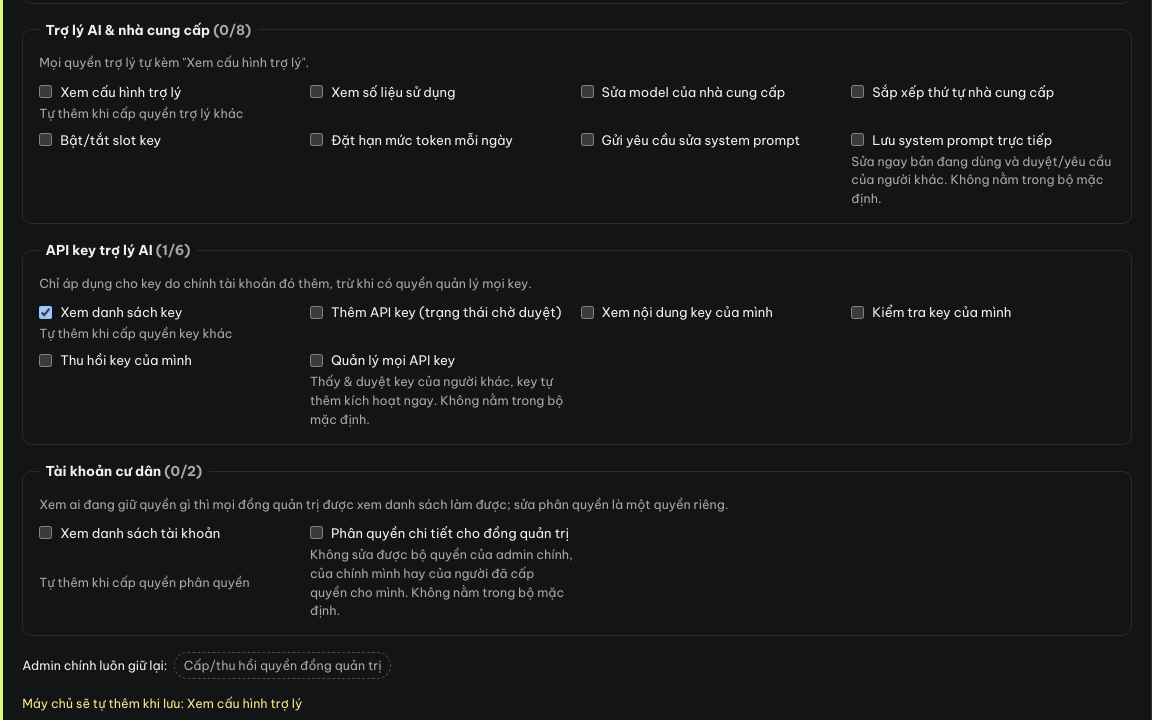
it: AdminPermissionEditorComponent › shows supervisor implications when the all-keys right is picked
(page scrolled)
Click the checkbox labelled "Quản lý mọi API key".
click(316, 360)  # box top-left (310, 354), bottom-right (323, 367)
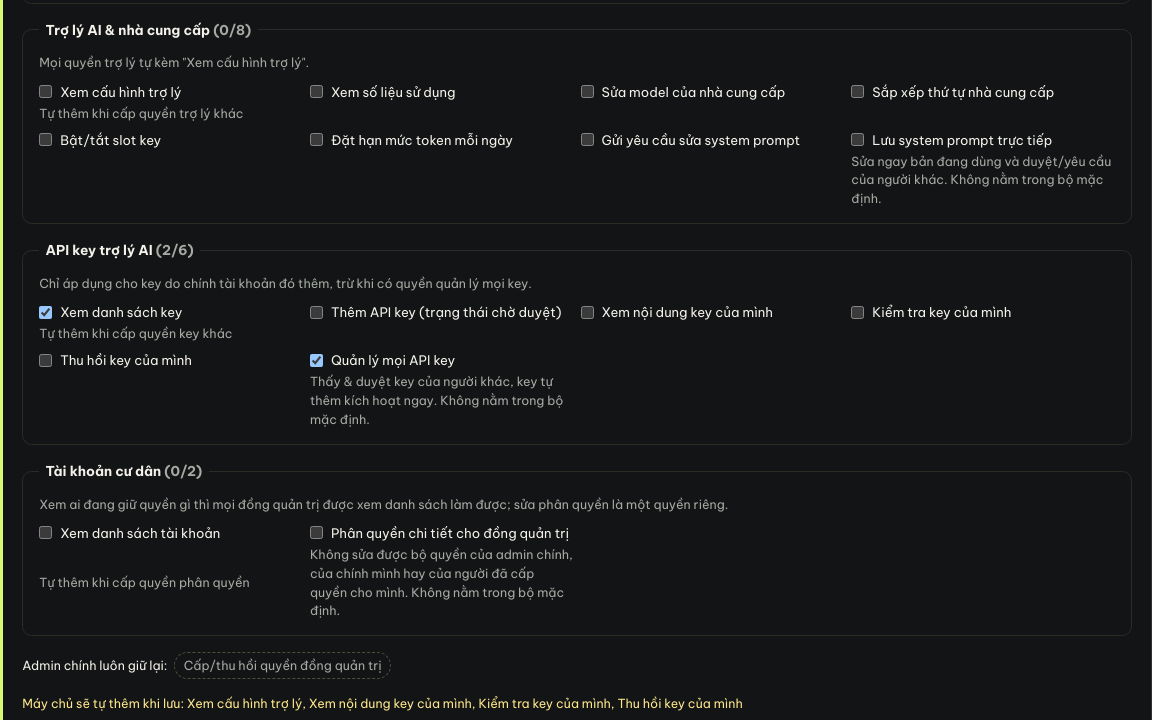
expect the message with class "implied" shows "Xem nội dung key của mình": met, box top-left (22, 696), bottom-right (743, 712)
expect the message with class "implied" shows "Kiểm tra key của mình": met, box top-left (22, 696), bottom-right (743, 712)
expect the message with class "implied" shows "Thu hồi key của mình": met, box top-left (22, 696), bottom-right (743, 712)
